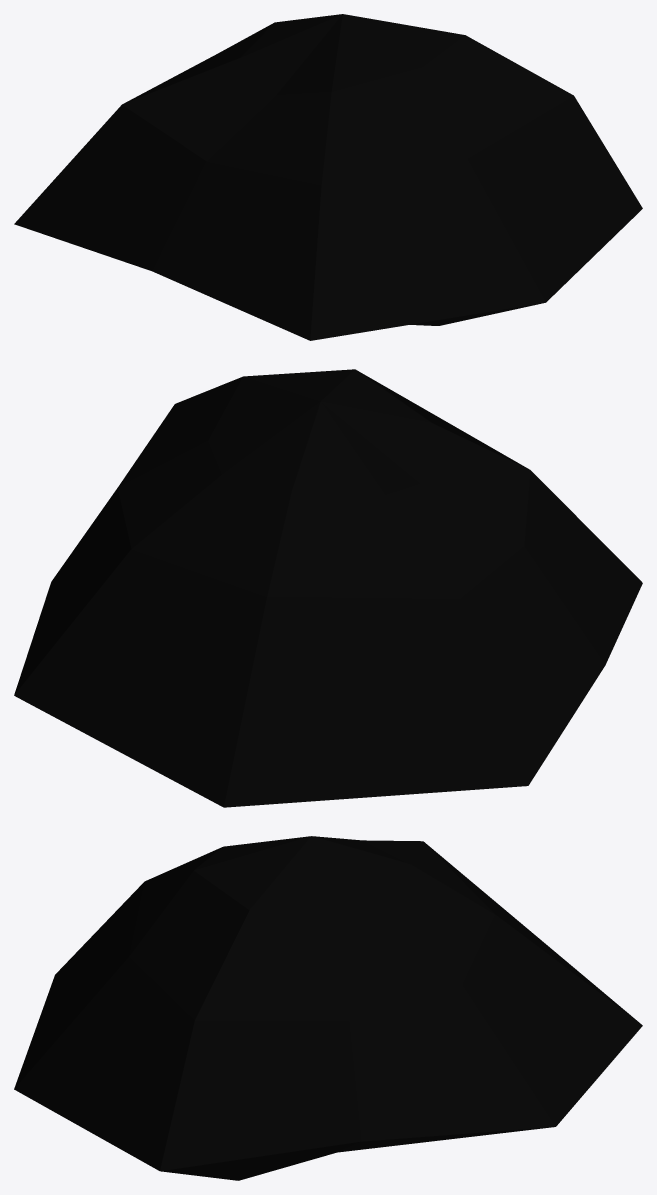
The model's file is SM_boulder_mossy.fbx.
3 views of the same model, one above another, from view 1: azimuth 30°, elevation 25°; view 2: azimuth 150°, elevation 25°; view 3: azimuth 270°, elevation 25° (orthographic). The views are drawn at different scales.
Visible parts, largest first — view 1: boulder_mossy; view 2: boulder_mossy; view 3: boulder_mossy.
Part boxes in pixels (x1,y1,x2,y2): boulder_mossy: (14, 14, 642, 340); boulder_mossy: (14, 369, 642, 807); boulder_mossy: (14, 836, 642, 1180).
Bounding box in the file's own units: 1.82 × 0.9802 × 1.91.
